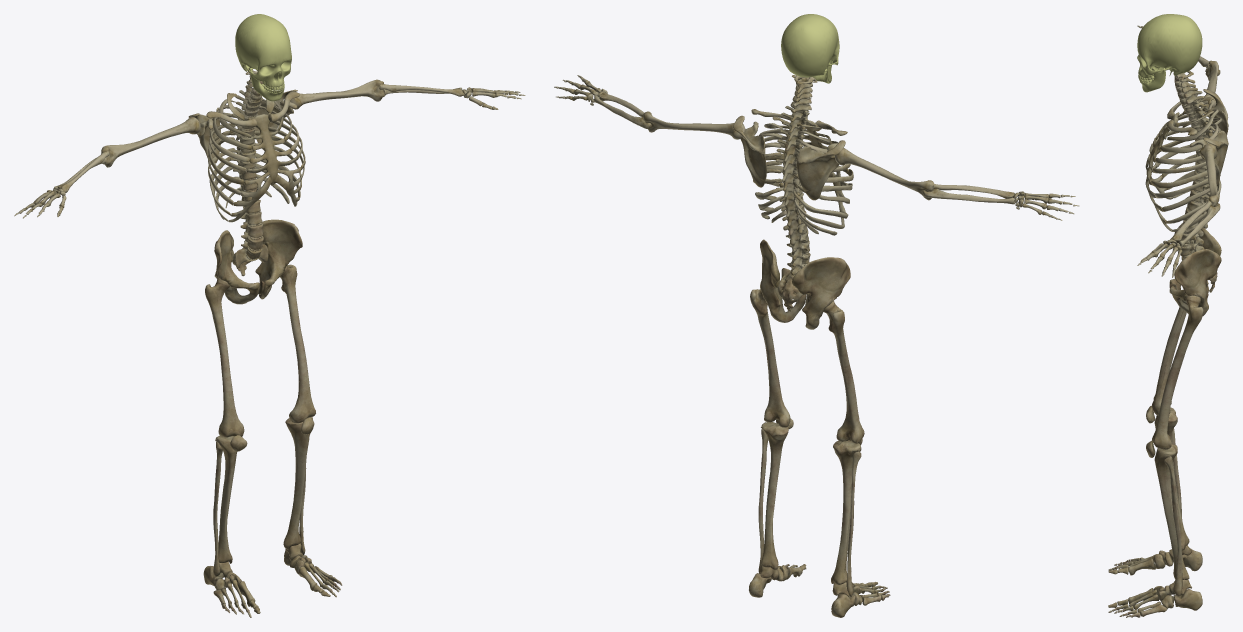
File: HumanSkeleton.fbx
3 renders of one model, left to right at view 1: azimuth 30°, elevation 25°; view 2: azimuth 150°, elevation 25°; view 3: azimuth 270°, elevation 25°, orthographic. The views are drawn at different scales.
Parts seen in each view (by area): view 1: Skeletal_Esqueleto_0.004, Skeletal_Esqueleto_0.003, Skeletal_Cranium_Calavera_0.001, Skeletal_Esqueleto_0.005; view 2: Skeletal_Esqueleto_0.004, Skeletal_Esqueleto_0.003, Skeletal_Cranium_Calavera_0.001, Skeletal_Esqueleto_0.005; view 3: Skeletal_Esqueleto_0.004, Skeletal_Esqueleto_0.003, Skeletal_Cranium_Calavera_0.001, Skeletal_Esqueleto_0.005.
Boxes of the visible parts, x1=… form: Skeletal_Esqueleto_0.004: x1=14, y1=69, x2=525, y2=617; Skeletal_Esqueleto_0.003: x1=53, y1=87, x2=462, y2=592; Skeletal_Cranium_Calavera_0.001: x1=235, y1=14, x2=291, y2=101; Skeletal_Esqueleto_0.005: x1=225, y1=92, x2=279, y2=276; Skeletal_Esqueleto_0.004: x1=554, y1=75, x2=1079, y2=617; Skeletal_Esqueleto_0.003: x1=593, y1=96, x2=1015, y2=605; Skeletal_Cranium_Calavera_0.001: x1=781, y1=14, x2=839, y2=83; Skeletal_Esqueleto_0.005: x1=744, y1=116, x2=821, y2=311; Skeletal_Esqueleto_0.004: x1=1108, y1=25, x2=1227, y2=617; Skeletal_Esqueleto_0.003: x1=1145, y1=56, x2=1228, y2=609; Skeletal_Cranium_Calavera_0.001: x1=1137, y1=14, x2=1202, y2=92; Skeletal_Esqueleto_0.005: x1=1182, y1=96, x2=1227, y2=292.
Size of the model in its own units: 17116 by 18314 by 3476.
